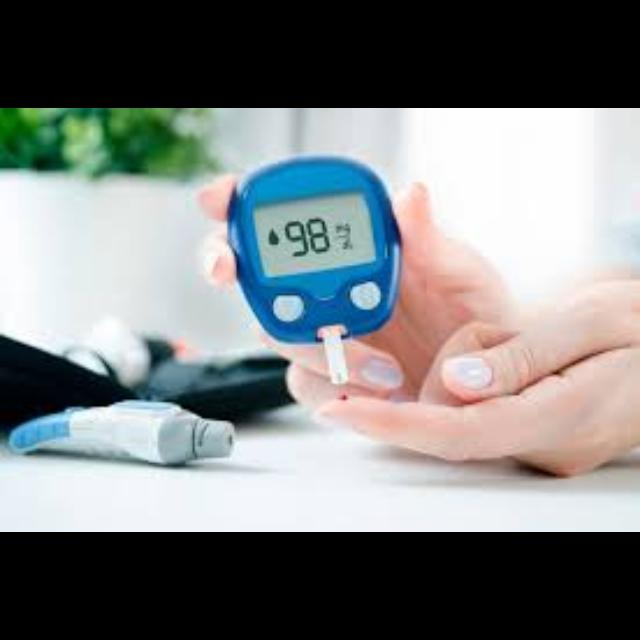Glucose-Meter: (229, 156, 400, 384)
